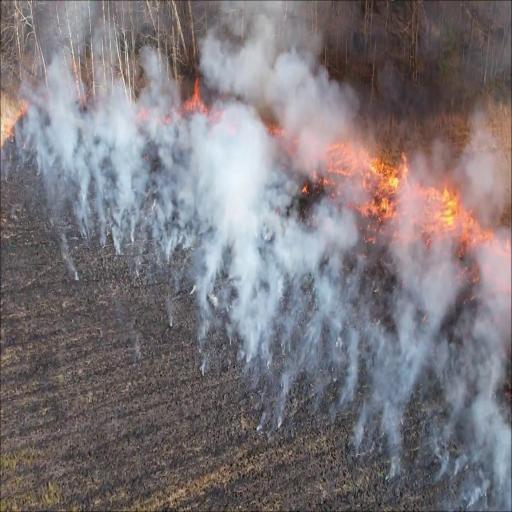fire: (371, 152, 465, 239)
smoke: (185, 100, 276, 384), (200, 2, 355, 162), (389, 173, 459, 486), (33, 55, 99, 270), (469, 220, 512, 512), (107, 69, 156, 258)
